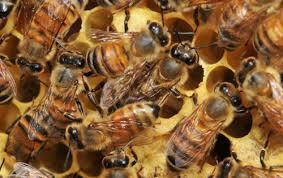Apis-mellifera-scutellata: (95, 35, 207, 123), (159, 79, 251, 171), (3, 61, 78, 167), (65, 95, 167, 165), (79, 14, 172, 79), (244, 49, 283, 159), (12, 0, 82, 57), (245, 0, 282, 65), (222, 0, 261, 59)
